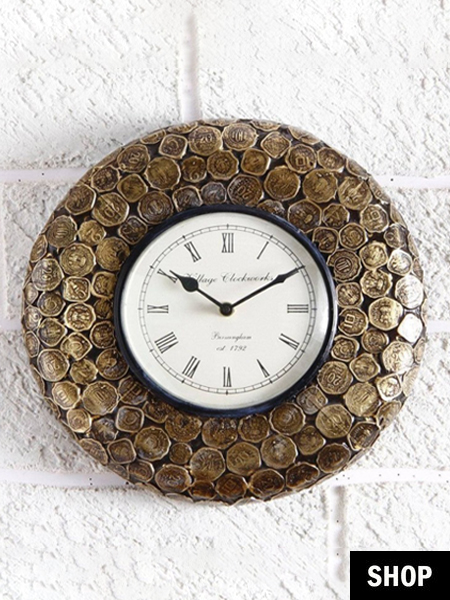clock: (123, 210, 334, 412)
